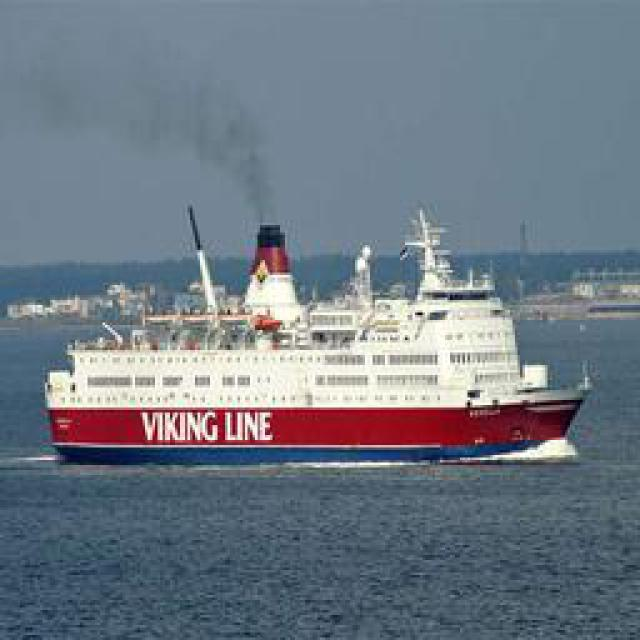Ship: (42, 207, 585, 465)
